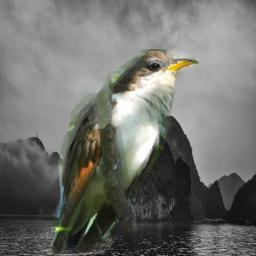Cuckoo: (51, 49, 199, 254)
